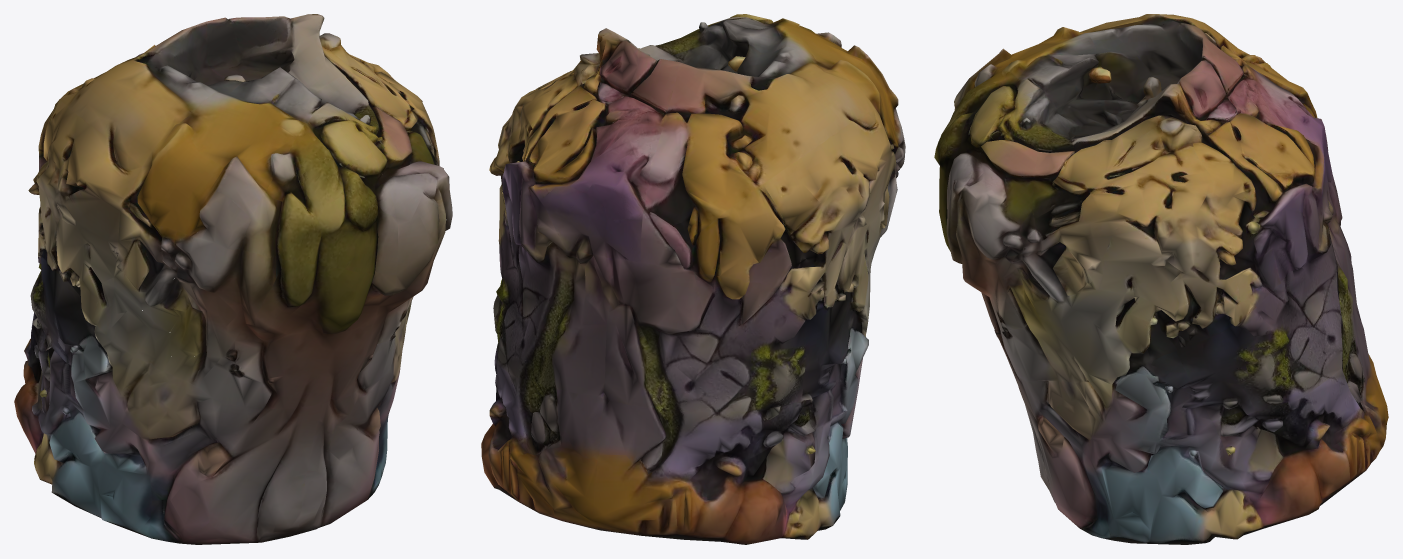
Rendered from clay_painted.glb.
3 renders of one model, left to right at view 1: azimuth 30°, elevation 25°; view 2: azimuth 150°, elevation 25°; view 3: azimuth 270°, elevation 25°, orthographic. The views are drawn at different scales.
Visible parts, largest first — view 1: tripo_node_16493463; view 2: tripo_node_16493463; view 3: tripo_node_16493463.
Boxes of the visible parts, x1,y1,x2,y2 form: tripo_node_16493463: (14, 14, 452, 544); tripo_node_16493463: (481, 14, 905, 544); tripo_node_16493463: (934, 14, 1388, 544).
Bounding box in the file's own units: 0.7857 × 0.9786 × 0.9008.
1 material, 1 textured.
